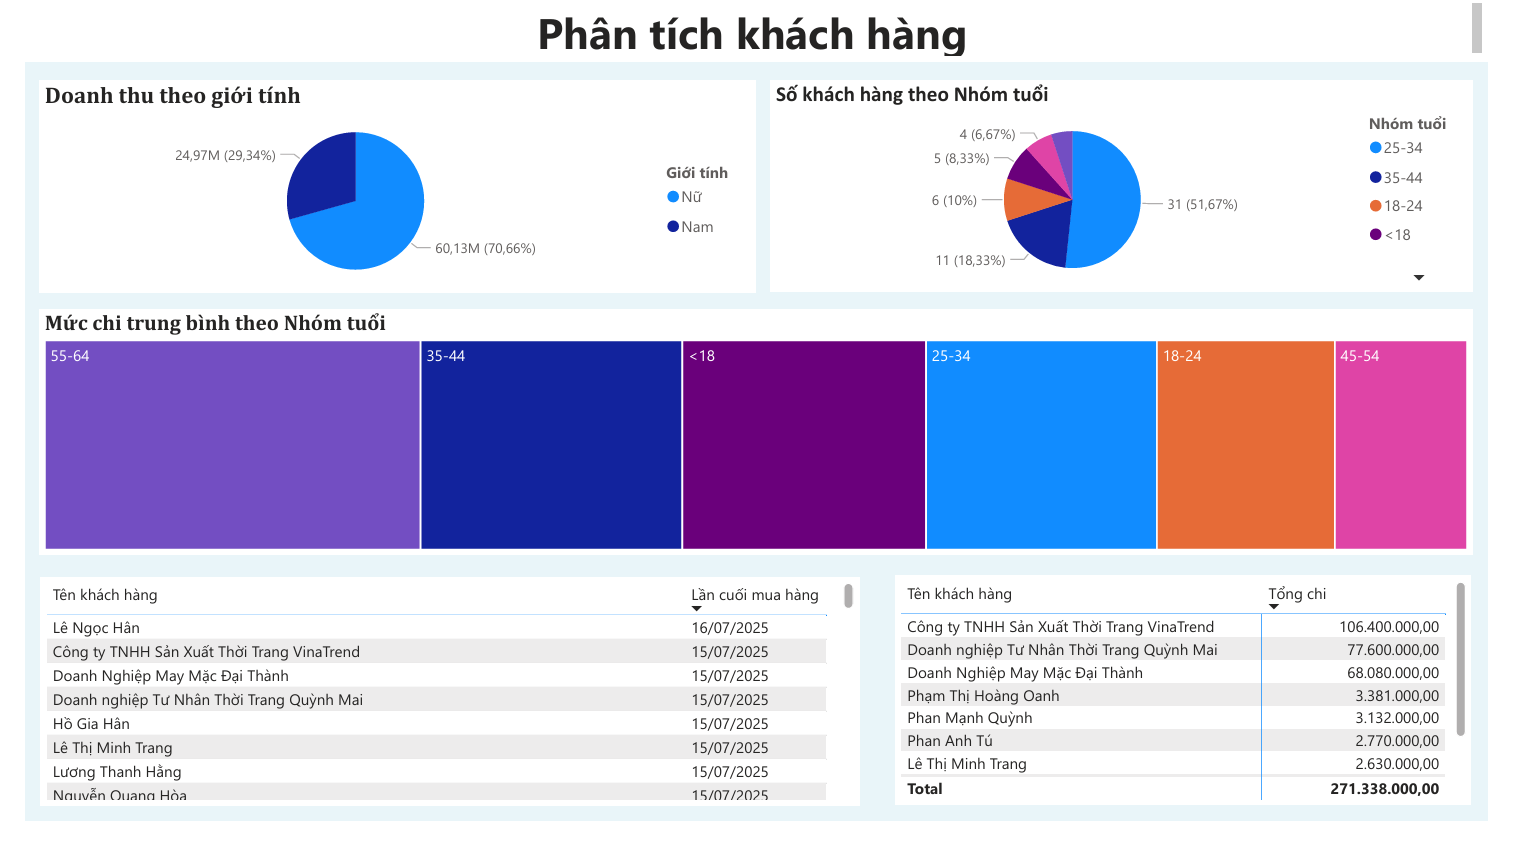

What the dashboard file says about the page in this screenshot:
{"tool":"powerbi","page":{"name":"Customer Analysis","canvas":[1280,720],"ordinal":1},"visuals":[{"type":"pieChart","title":"Doanh thu theo giới tính","fields":{"Y":["Order.Total Revenue"],"Category":["vCustomer_Clean.Gender_Label"]},"box":[12.5,73.2,626.5,185.5],"z":0},{"type":"textbox","box":[0,0,1280,55.7],"z":1000},{"type":"pivotTable","fields":{"Rows":["Partner_Info.Partner_Name"],"Values":["Sum(vCustomer_Spending.TotalSpent)"]},"box":[761.6,506.5,504.6,200.3],"z":2000},{"type":"tableEx","fields":{"Values":["Order.Partner_Name","vCustomer_Recency.LastPurchaseDate_Text"]},"box":[12.9,507.1,717.1,200],"z":3000},{"type":"pieChart","title":"Số khách hàng theo Nhóm tuổi","fields":{"Category":["vCustomer_Clean.AgeGroup"],"Y":["vCustomer_Spending.NumCustomersByAgeGroup"]},"box":[652,73,615,185],"z":4000},{"type":"treemap","title":"Mức chi trung bình theo Nhóm tuổi","fields":{"Group":["vCustomer_Clean.AgeGroup"],"Values":["vCustomer_Spending.AvgSpendingByAgeGroup"]},"box":[12,273,1255,215],"z":5000}]}

Visuals, with their boxes in screenshot pixels (x1, y1, x2, y2), scaled from the page's 1280x720 canvas onto the 1513x847 screenshot:
"Doanh thu theo giới tính" pieChart: locate(15, 86, 755, 304)
textbox: locate(0, 0, 1512, 66)
pivotTable - Partner_Info.Partner_Name x Sum(vCustomer_Spending.TotalSpent): locate(900, 596, 1497, 831)
tableEx - Order.Partner_Name x vCustomer_Recency.LastPurchaseDate_Text: locate(15, 597, 863, 832)
"Số khách hàng theo Nhóm tuổi" pieChart: locate(771, 86, 1498, 304)
"Mức chi trung bình theo Nhóm tuổi" treemap: locate(14, 321, 1498, 574)
